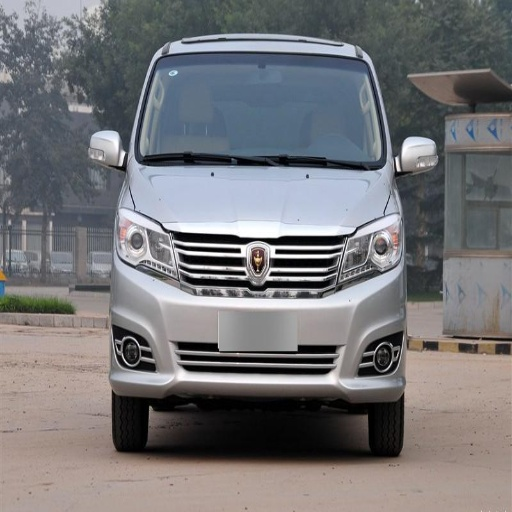front_bumper: (115, 231, 405, 393)
front_right_light: (117, 208, 176, 280)
hood: (129, 164, 391, 238)
left_mirror: (396, 137, 439, 176)
